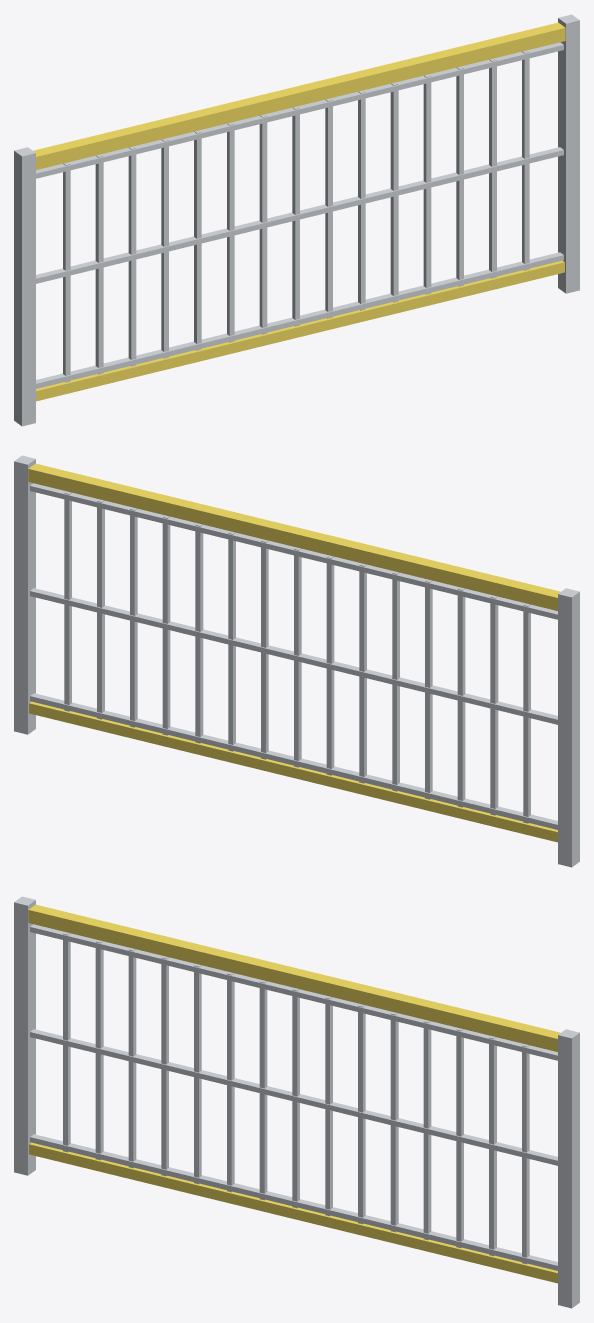
The model's file is go-kart-track-and-pit-lane-spectator-fence-section-452e14dc__34359.glb.
3 renders of one model, top to bottom at view 1: azimuth 30°, elevation 25°; view 2: azimuth 150°, elevation 25°; view 3: azimuth 330°, elevation 25°, orthographic.
Parts seen in each view (by area): view 1: spectator-fence-section-steel, spectator-fence-section-canary; view 2: spectator-fence-section-steel, spectator-fence-section-canary; view 3: spectator-fence-section-steel, spectator-fence-section-canary.
Boxes of the visible parts, left/top/right/bottom form: spectator-fence-section-steel: left=14, top=14, right=579, bottom=426; spectator-fence-section-canary: left=33, top=22, right=565, bottom=401; spectator-fence-section-steel: left=14, top=455, right=579, bottom=867; spectator-fence-section-canary: left=28, top=463, right=560, bottom=842; spectator-fence-section-steel: left=14, top=896, right=579, bottom=1308; spectator-fence-section-canary: left=28, top=904, right=560, bottom=1283.
Size of the model in its own units: 4 by 1.85 by 0.1001.
